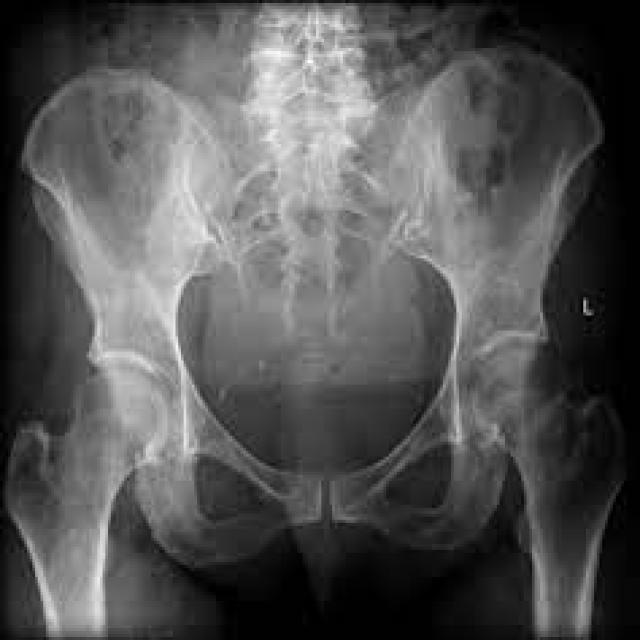Impacted: (232, 35, 384, 226)
